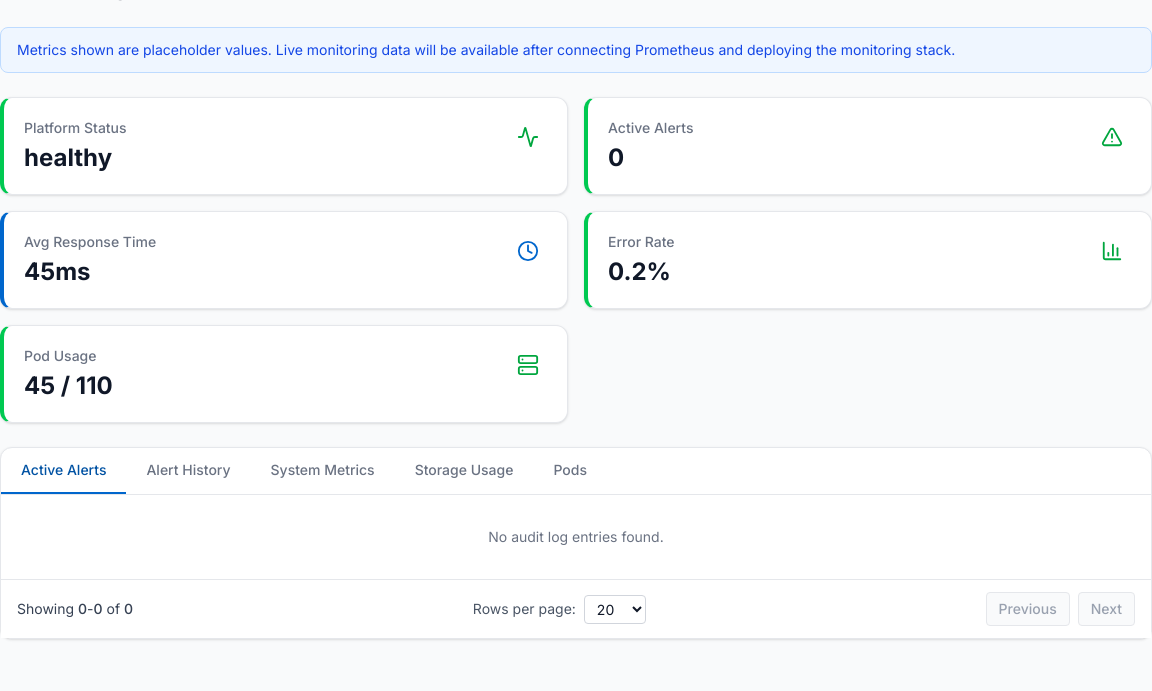
Test: Monitoring Pods tab › switches to the Pods tab and shows the table
Click the button with test id "tab-pods".
click(570, 471)  # box [533,448,607,494]
(page scrolled)
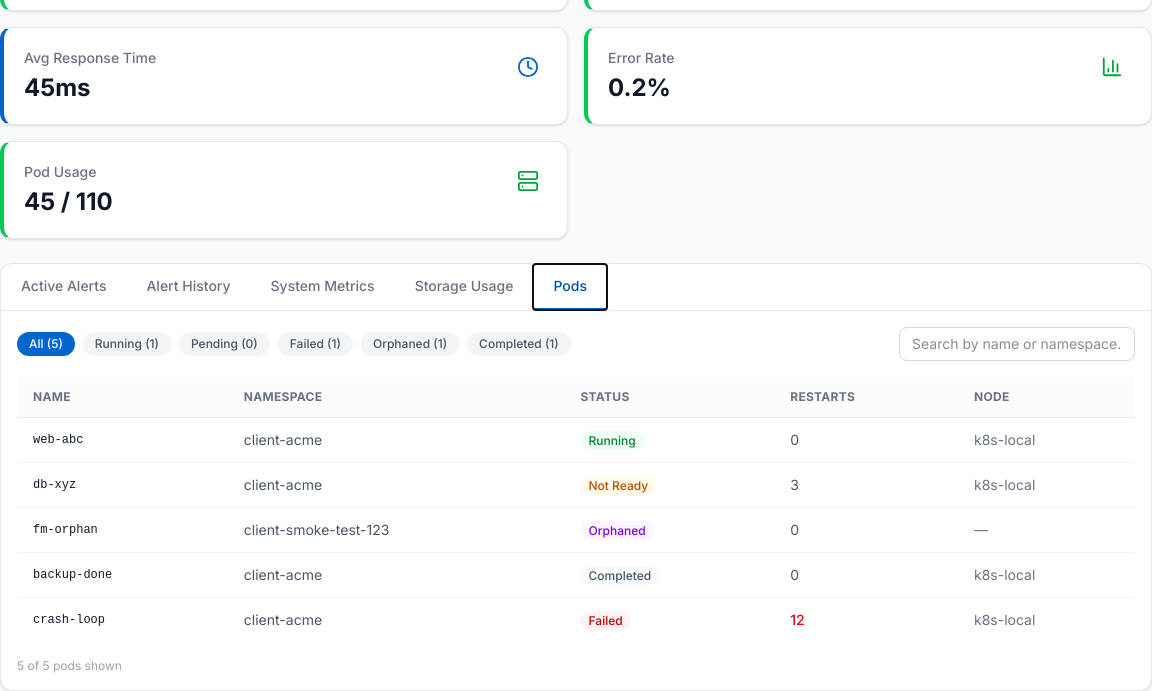
Expected: the element with test id "pods-tab" is shown, [1,311,1151,690]
Expected: the text "web-abc" is shown, [17,418,228,462]
Expected: the text "fm-orphan" is shown, [17,508,228,552]
